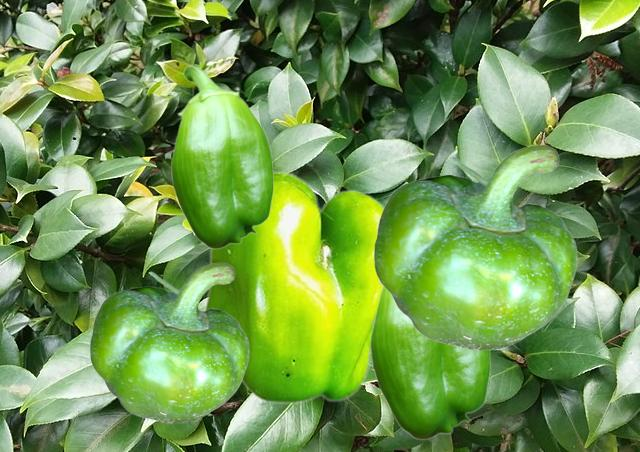bell_pepper: (201, 170, 383, 403), (374, 144, 576, 349), (90, 262, 248, 422), (369, 280, 490, 439), (170, 65, 273, 248)
